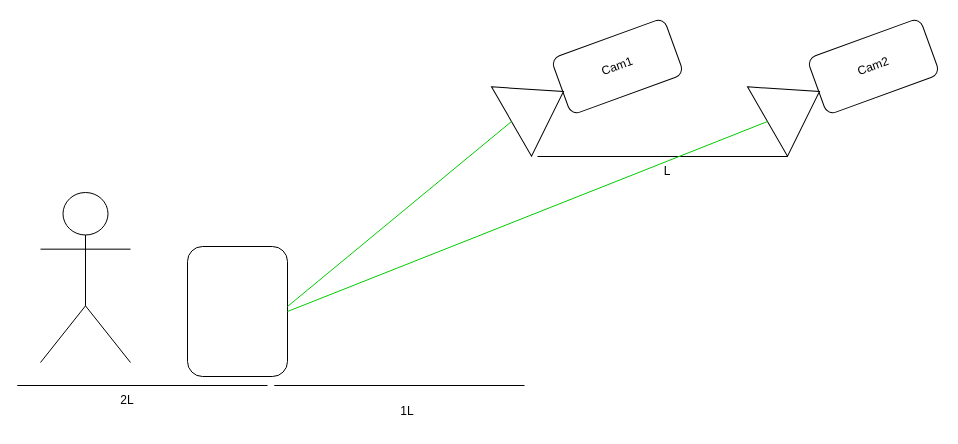
The diagram is 958 pixels wide and 444 high, and some of its shapes have lost their labels. The shapes that lost their labels are listed below. From the top down, each one's centre as x and y in pixels, then its label:
At pixel 85 277: "Obj1".
At pixel 237 311: "Obj2".
